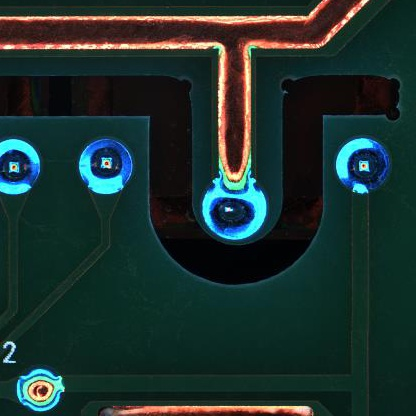spot: (200, 178, 271, 243), (332, 137, 394, 195), (76, 139, 136, 197), (1, 139, 41, 197), (15, 370, 66, 414)
